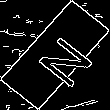N_NW: (21, 23, 89, 87)
